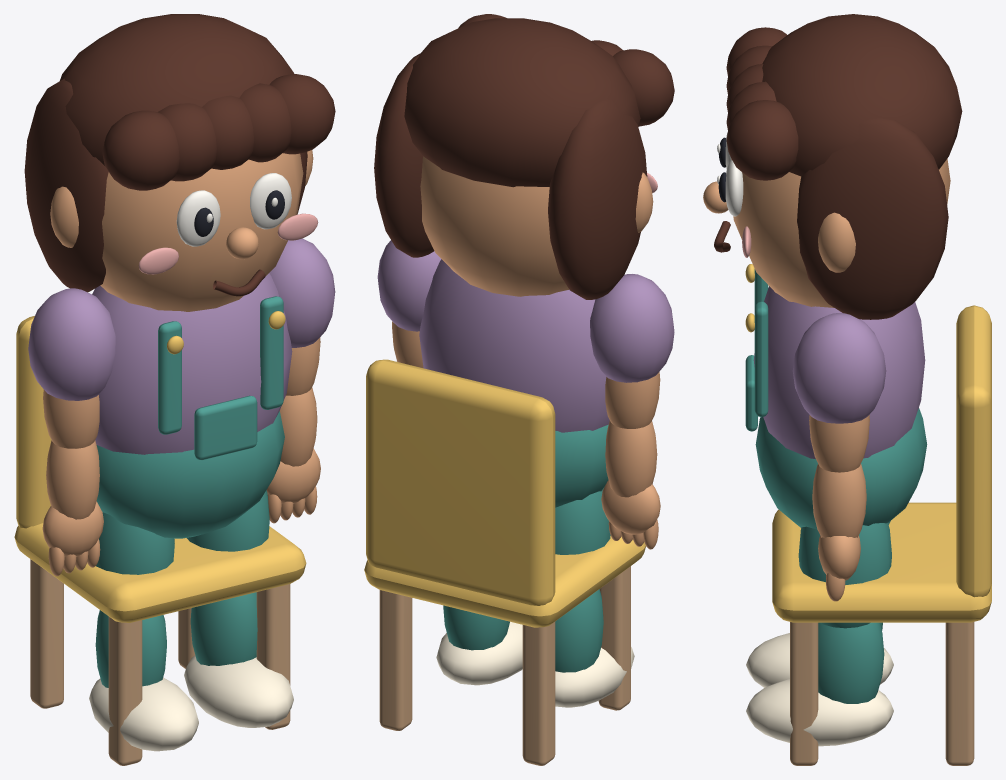
The model's file is mommy-sit.glb.
3 views of the same model, side by side, from view 1: azimuth 30°, elevation 25°; view 2: azimuth 150°, elevation 25°; view 3: azimuth 270°, elevation 25° (orthographic). The views are drawn at different scales.
Parts seen in each view (by area): view 1: soft shirt, hair cap, clay head, overalls, chair seat, bob hair, shirt sleeve, little shoe.001, chair back, fringe, shirt sleeve.001, little shoe (+28 smaller); view 2: chair back, hair cap, soft shirt, bob hair, clay head, chair seat, shirt sleeve, bob hair.001, chair leg.001, chair leg.003, shirt sleeve.001, overalls (+12 smaller); view 3: bob hair.001, hair cap, chair seat, soft shirt, chair back, shirt sleeve.001, overalls, clay head, little shoe.001, lower leg.001, fringe.004, chair leg.003 (+15 smaller).
Part boxes in pixels (left/top/right/bottom): soft shirt: left=92, top=273, right=292, bottom=454; hair cap: left=60, top=14, right=294, bottom=165; clay head: left=100, top=153, right=303, bottom=311; overalls: left=96, top=411, right=284, bottom=538; chair seat: left=14, top=523, right=306, bottom=622; bob hair: left=24, top=78, right=108, bottom=292; shirt sleeve: left=28, top=288, right=115, bottom=400; little shoe.001: left=184, top=655, right=293, bottom=727; chair back: left=16, top=316, right=51, bottom=528; fringe: left=102, top=110, right=179, bottom=190; shirt sleeve.001: left=269, top=238, right=335, bottom=347; little shoe: left=89, top=677, right=198, bottom=751; chair back: left=366, top=359, right=555, bottom=605; hair cap: left=404, top=18, right=640, bottom=187; soft shirt: left=419, top=259, right=609, bottom=432; bob hair: left=548, top=99, right=647, bottom=299; clay head: left=420, top=156, right=568, bottom=296; chair seat: left=364, top=536, right=645, bottom=627; shirt sleeve: left=590, top=274, right=674, bottom=382; bob hair.001: left=374, top=53, right=434, bottom=257; chair leg.001: left=522, top=622, right=555, bottom=765; chair leg.003: left=379, top=590, right=412, bottom=730; shirt sleeve.001: left=377, top=240, right=441, bottom=331; overalls: left=555, top=424, right=608, bottom=507; bob hair.001: left=797, top=118, right=948, bottom=319; hair cap: left=762, top=14, right=962, bottom=176; chair seat: left=772, top=502, right=991, bottom=622; soft shirt: left=753, top=286, right=925, bottom=458; chair back: left=956, top=305, right=991, bottom=597; shirt sleeve.001: left=792, top=313, right=886, bottom=423; overalls: left=755, top=408, right=927, bottom=528; clay head: left=731, top=158, right=950, bottom=307; little shoe.001: left=746, top=679, right=893, bottom=746; lower leg.001: left=818, top=622, right=884, bottom=703; fringe.004: left=726, top=100, right=798, bottom=180; chair leg.003: left=945, top=622, right=974, bottom=765.
Bounding box in the file's own units: 0.957 × 2.17 × 0.815.
